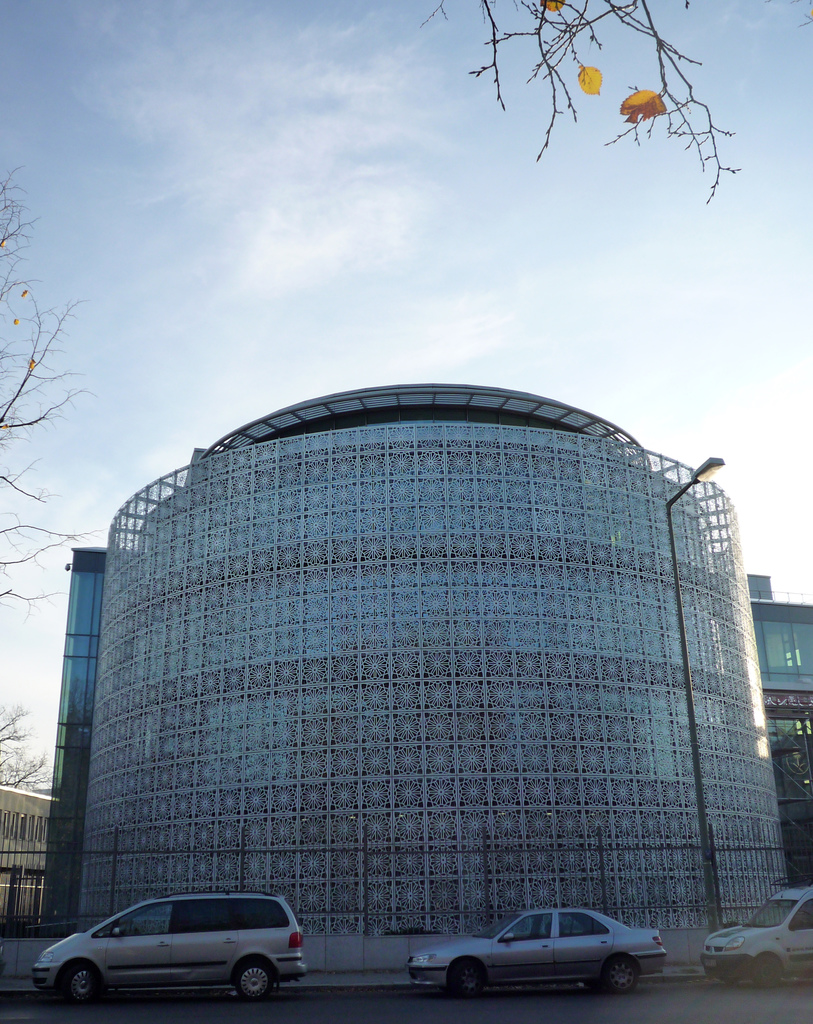Car: (34, 897, 335, 1004), (405, 901, 665, 996), (706, 882, 812, 992)
